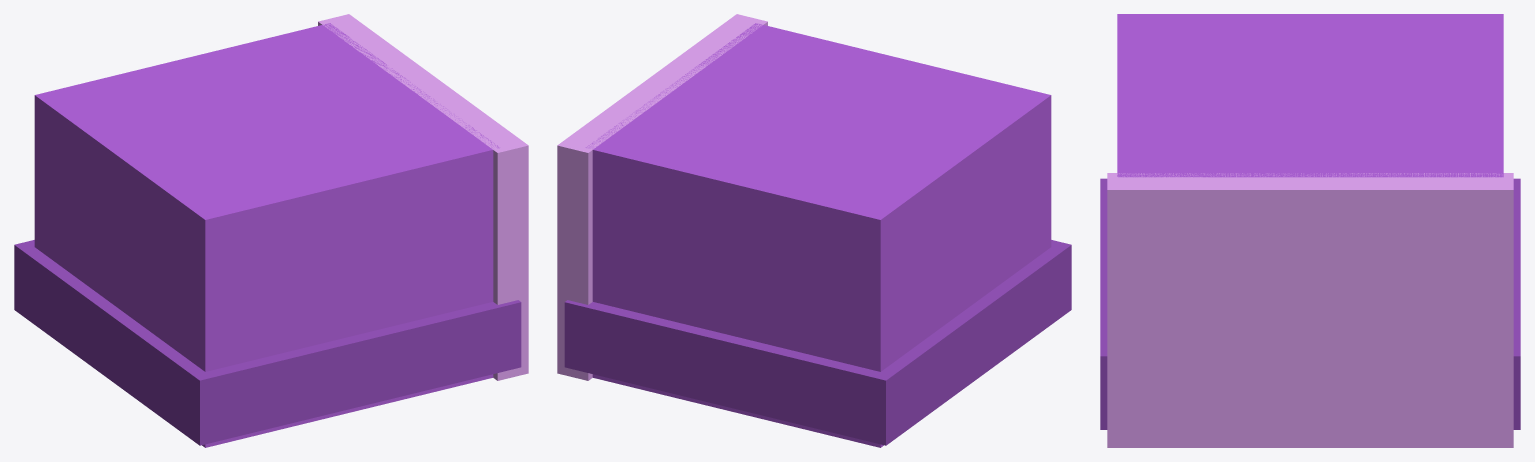
The model's file is dj_manga_inf.glb.
3 views of the same model, side by side, from view 1: azimuth 30°, elevation 25°; view 2: azimuth 150°, elevation 25°; view 3: azimuth 270°, elevation 25° (orthographic). The views are drawn at different scales.
Parts seen in each view (by area): view 1: dj_manga_inf; view 2: dj_manga_inf; view 3: dj_manga_inf.
Part boxes in pixels (box(x1,y1,x2,y2)): dj_manga_inf: box(14, 14, 528, 447); dj_manga_inf: box(557, 14, 1071, 447); dj_manga_inf: box(1100, 14, 1520, 447).
Bounding box in the file's own units: 0.32 × 0.21 × 0.31.
